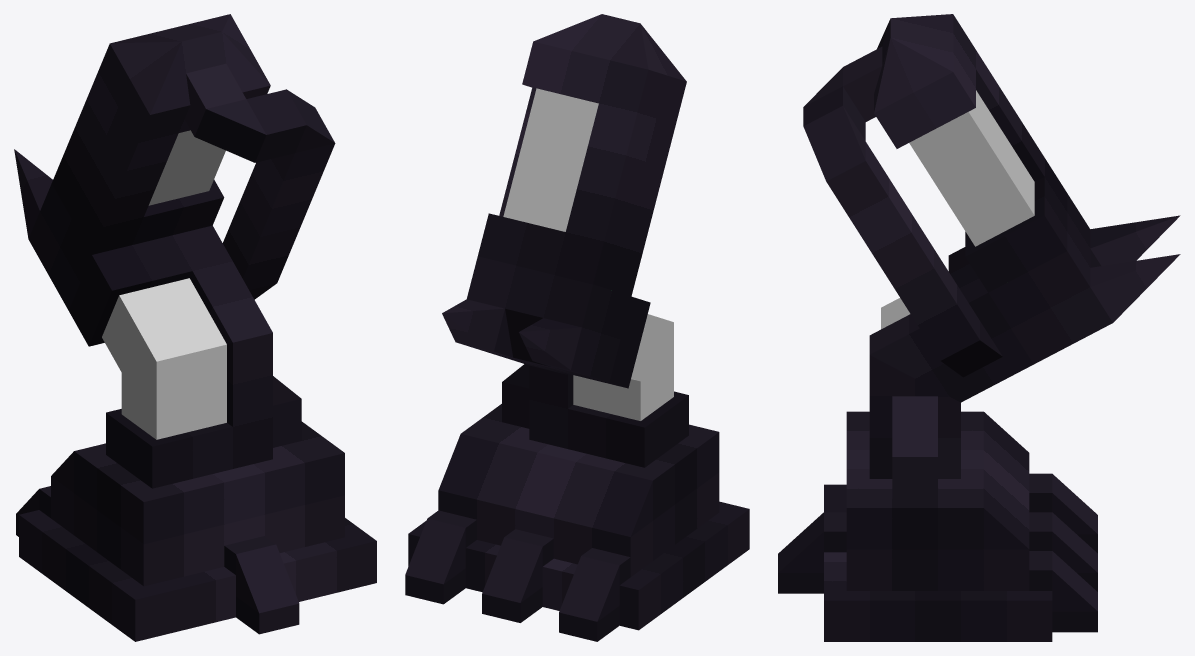
Rendered from leg_reinforced_r.obj.
3 renders of one model, left to right at view 1: azimuth 30°, elevation 25°; view 2: azimuth 150°, elevation 25°; view 3: azimuth 270°, elevation 25°, orthographic. The views are drawn at different scales.
Visible parts, largest first — view 1: LEG_RIGHT_REINFORCED.OBVAR_Cube.319, LEG_RIGHT_DECO_OBSIDIAN_Cube.372; view 2: LEG_RIGHT_REINFORCED.OBVAR_Cube.319, LEG_RIGHT_DECO_OBSIDIAN_Cube.372; view 3: LEG_RIGHT_REINFORCED.OBVAR_Cube.319, LEG_RIGHT_DECO_OBSIDIAN_Cube.372.
Boxes of the visible parts, x1,y1,x2,y2 form: LEG_RIGHT_REINFORCED.OBVAR_Cube.319: [16, 14, 376, 641]; LEG_RIGHT_DECO_OBSIDIAN_Cube.372: [14, 149, 52, 274]; LEG_RIGHT_REINFORCED.OBVAR_Cube.319: [405, 14, 749, 641]; LEG_RIGHT_DECO_OBSIDIAN_Cube.372: [442, 299, 589, 376]; LEG_RIGHT_REINFORCED.OBVAR_Cube.319: [778, 14, 1097, 641]; LEG_RIGHT_DECO_OBSIDIAN_Cube.372: [1073, 215, 1180, 343].
Bounding box in the file's own units: 0.375 × 0.8246 × 0.5508.
